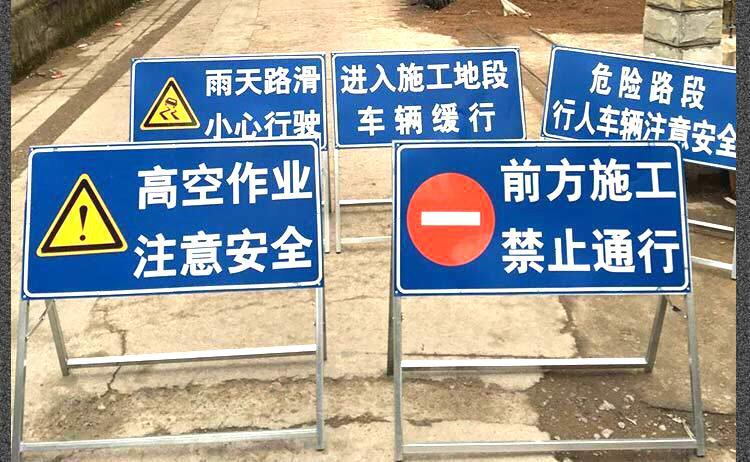sign: (395, 142, 692, 294), (29, 144, 319, 289), (331, 52, 528, 139), (550, 47, 723, 138), (131, 59, 323, 140)
